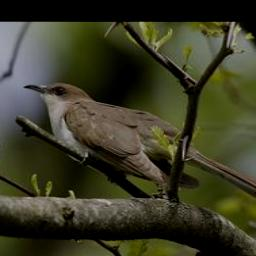Cuckoo: (27, 80, 256, 210)
